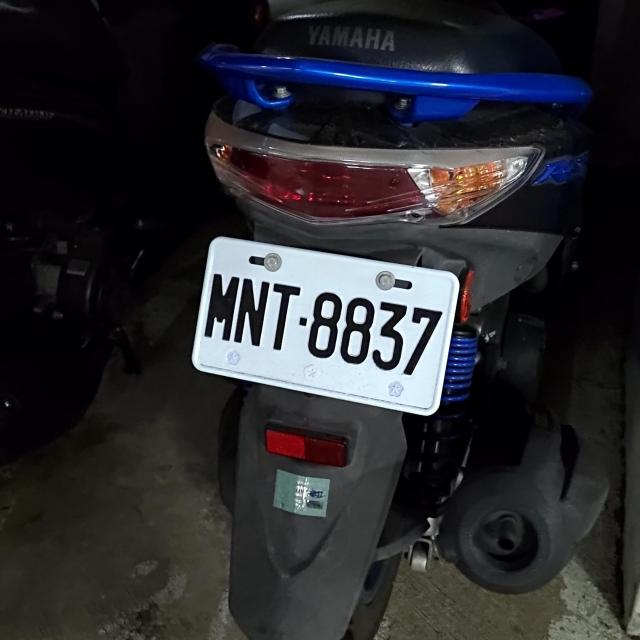W: (182, 230, 464, 413)
